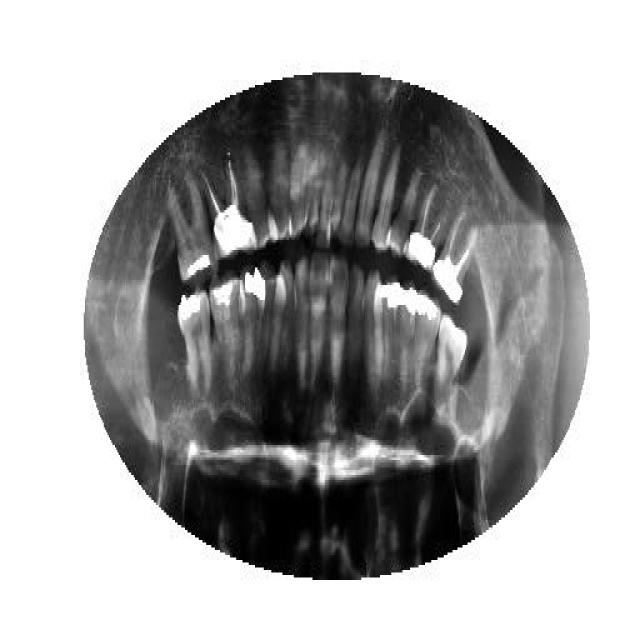Fillings: (166, 172, 216, 282), (178, 287, 212, 395), (210, 275, 245, 375), (412, 290, 442, 402), (242, 268, 266, 382), (398, 280, 417, 405), (382, 275, 400, 393)
Implant: (198, 150, 252, 260), (433, 205, 478, 305), (404, 182, 451, 272)
